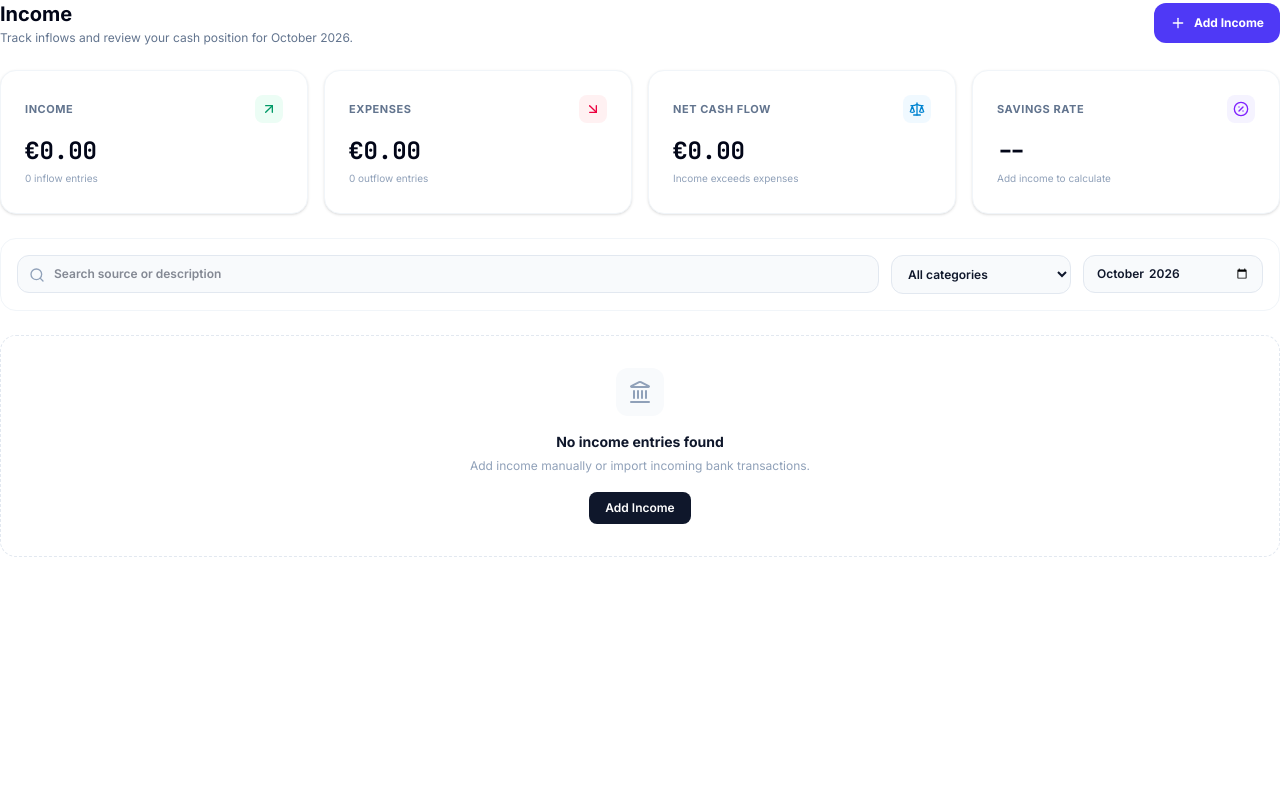
Test: income tracking › adds income and updates the cash-flow summary
The image size is (1280, 800).
Expected: the heading "Income" is shown, [0,2,72,26]
Click the button "Add Income" in the row of "October 2026".
click(1217, 23)  # box [1154,3,1279,43]
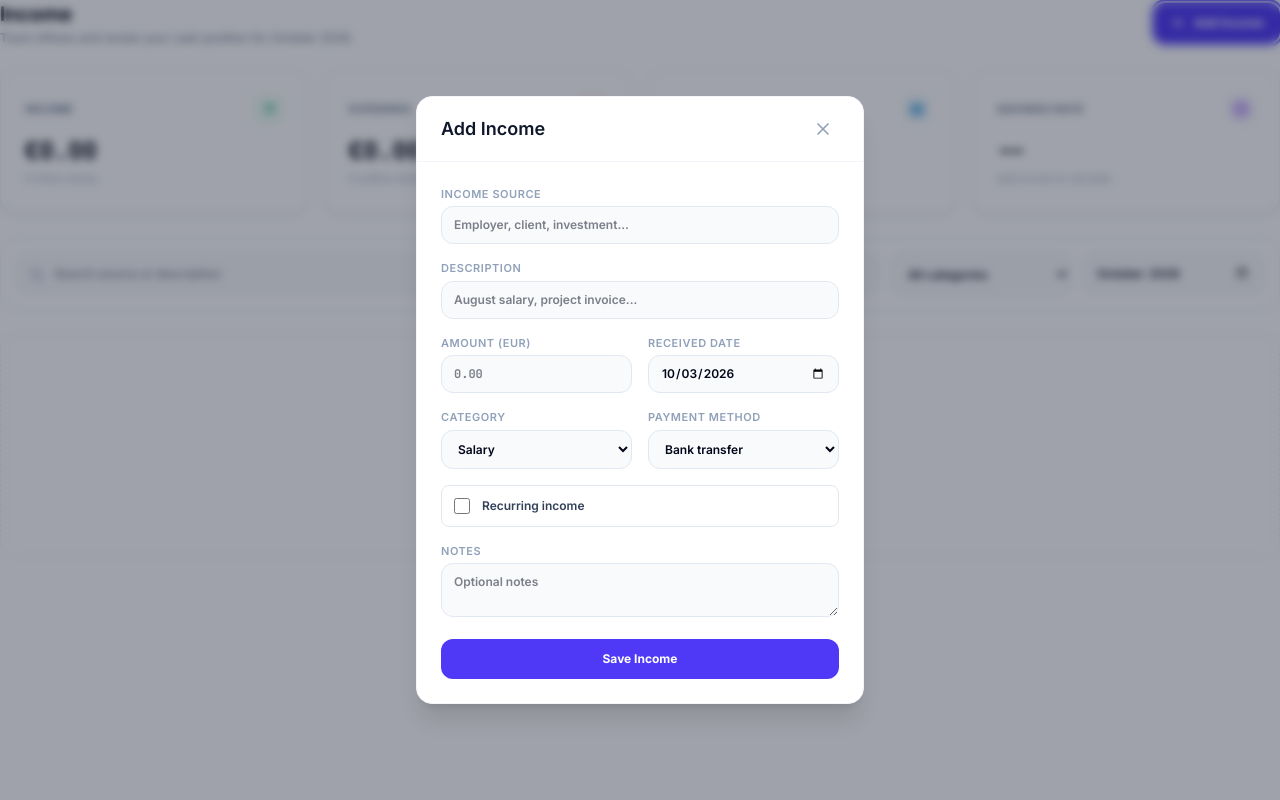
Type "Example Employer" into the field labelled "Income source".
click(640, 225); type("Example Employer")  # box [441,206,839,244]
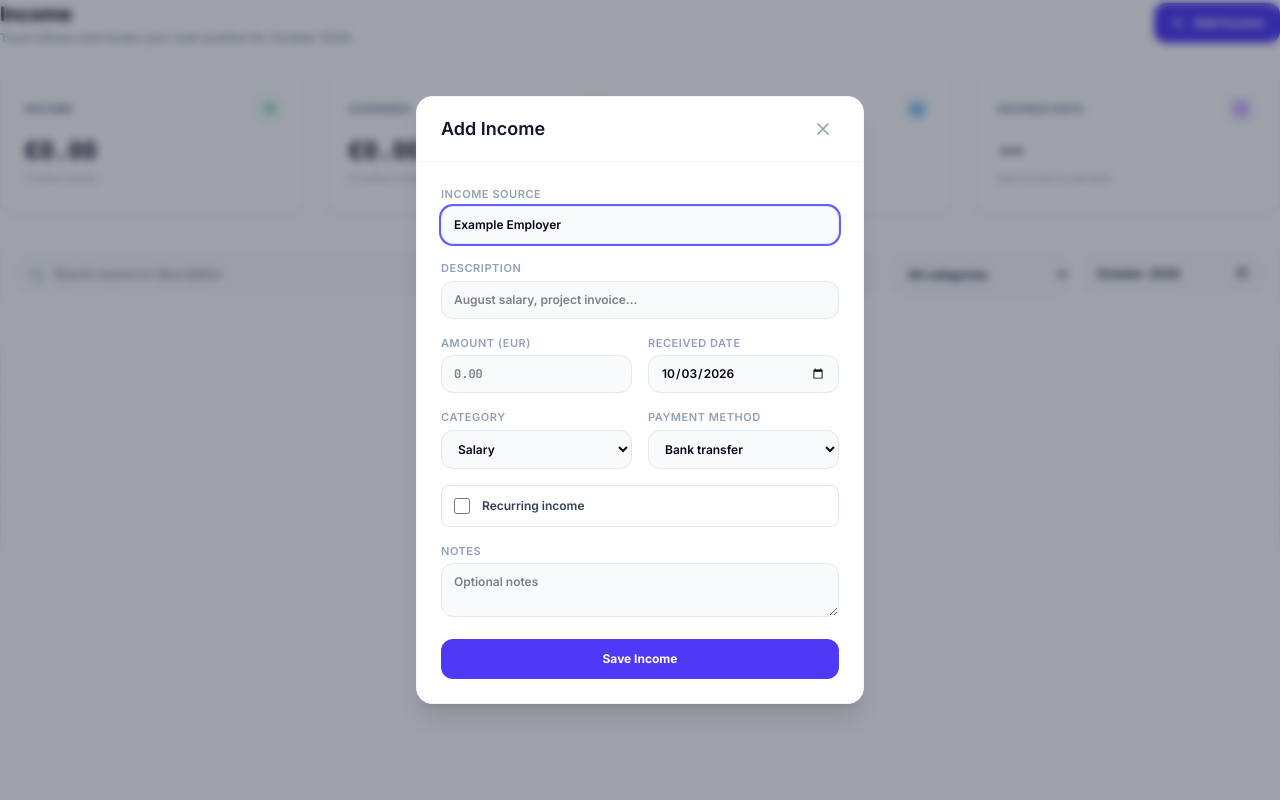
Type "Monthly salary" into the field labelled "Description".
click(640, 300); type("Monthly salary")  # box [441,281,839,319]
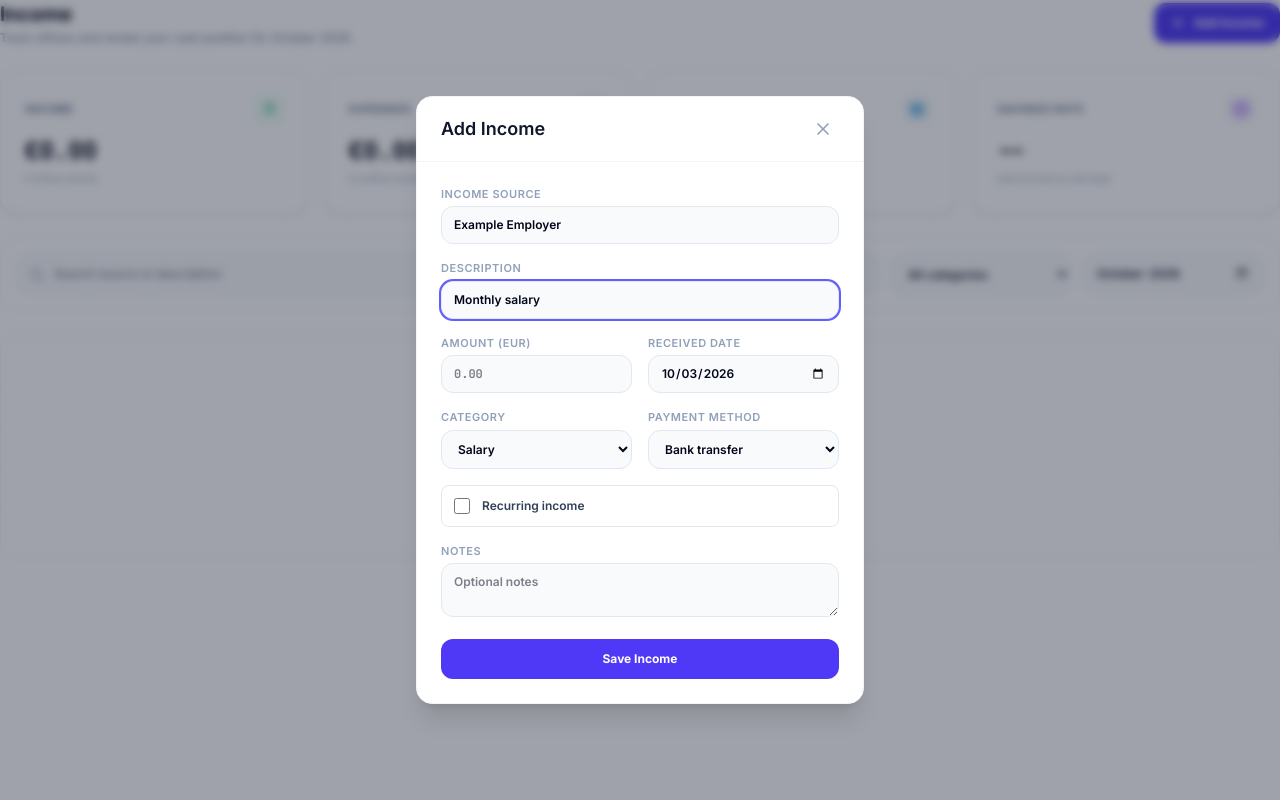
Type "3000" into the number field labelled "Amount (EUR)".
click(536, 374); type("3000")  # box [441,355,632,393]
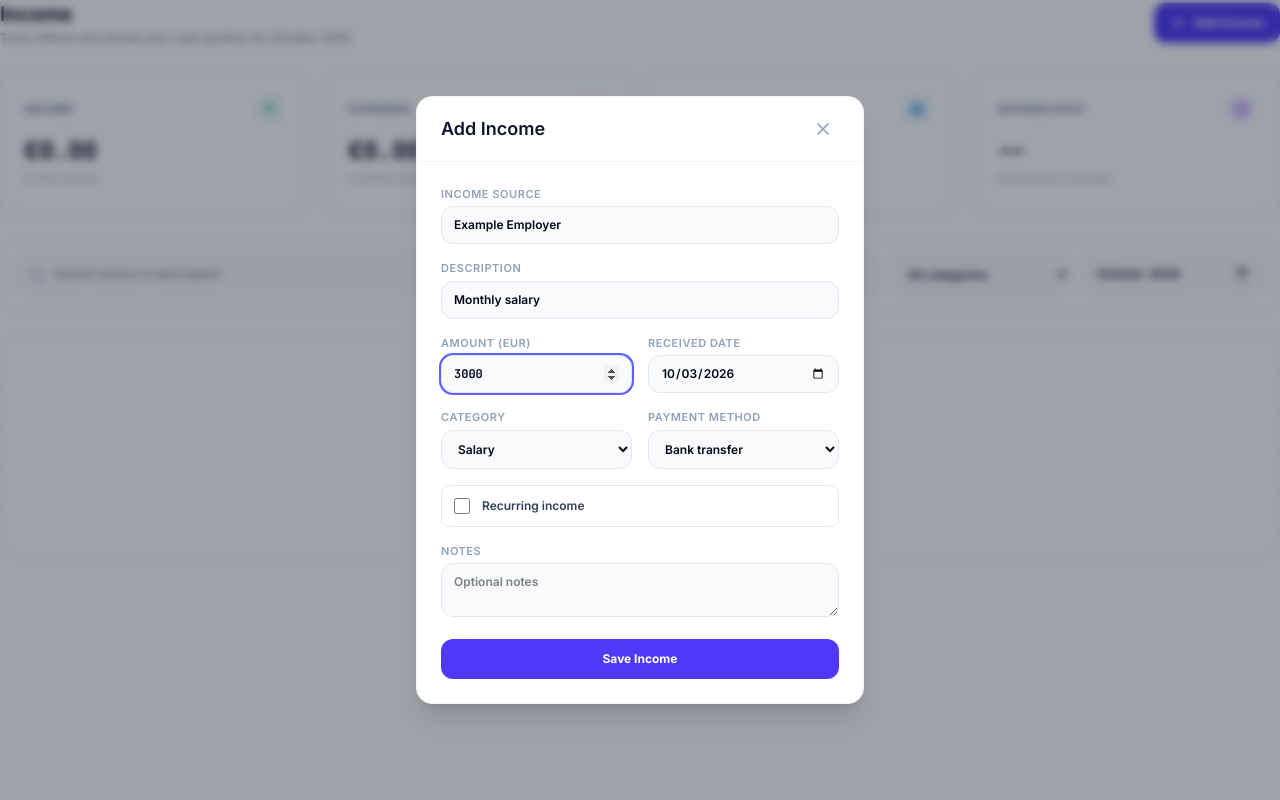
Click the button "Save Income".
click(640, 659)  # box [441,639,839,679]
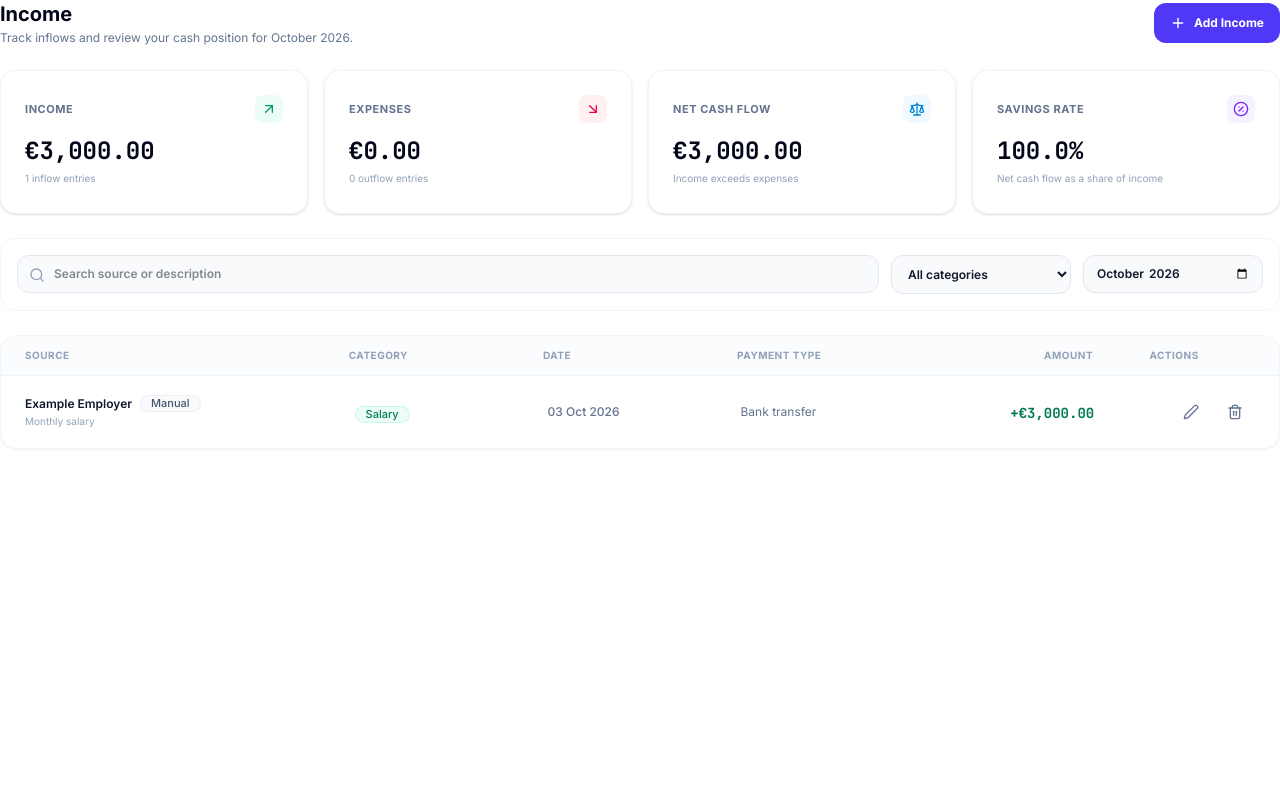
Expected: the heading "Example Employer" is shown, [25,396,132,412]
Expected: the text "+€3,000.00" is shown, [1010,404,1094,422]
Expected: the text "100.0%" is shown, [997,135,1083,166]
